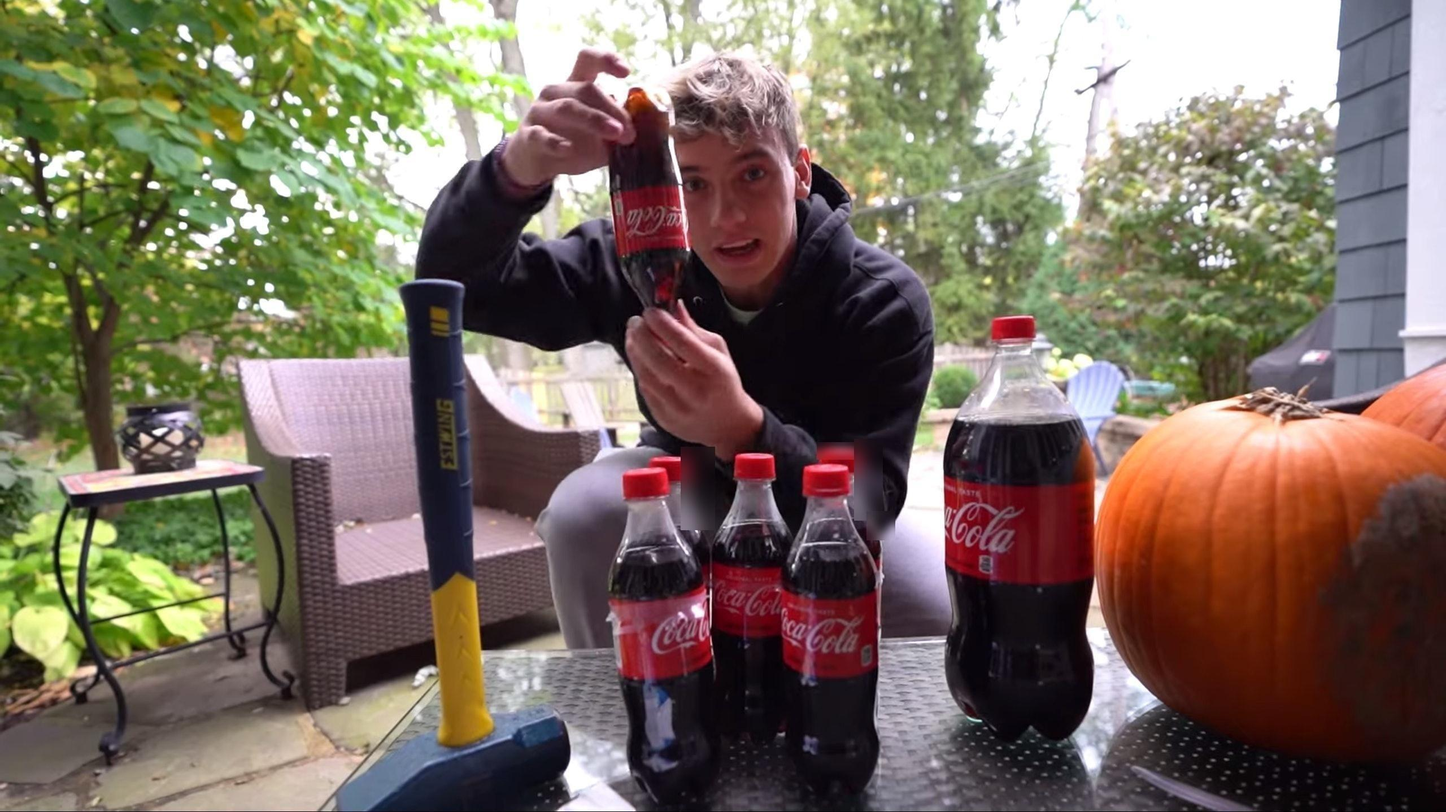bottle-plastic: (940, 311, 1099, 746), (604, 457, 721, 809), (778, 448, 886, 806), (708, 448, 794, 747), (609, 84, 692, 315)
